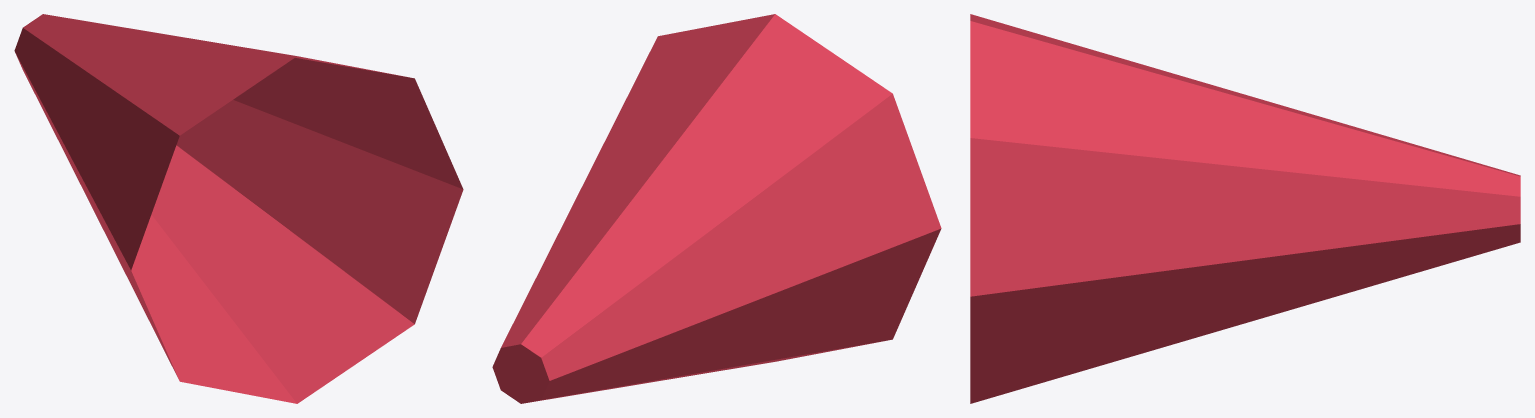
File: projector-light.fbx
3 renders of one model, left to right at view 1: azimuth 30°, elevation 25°; view 2: azimuth 150°, elevation 25°; view 3: azimuth 270°, elevation 25°, orthographic. The views are drawn at different scales.
Visible parts, largest first — view 1: projector-light; view 2: projector-light; view 3: projector-light.
Boxes of the visible parts, bbox=[...] form: projector-light: bbox=[14, 14, 463, 403]; projector-light: bbox=[492, 14, 941, 403]; projector-light: bbox=[970, 14, 1520, 403].
Size of the model in its own units: 0.6199 by 0.8215 by 0.6199.
